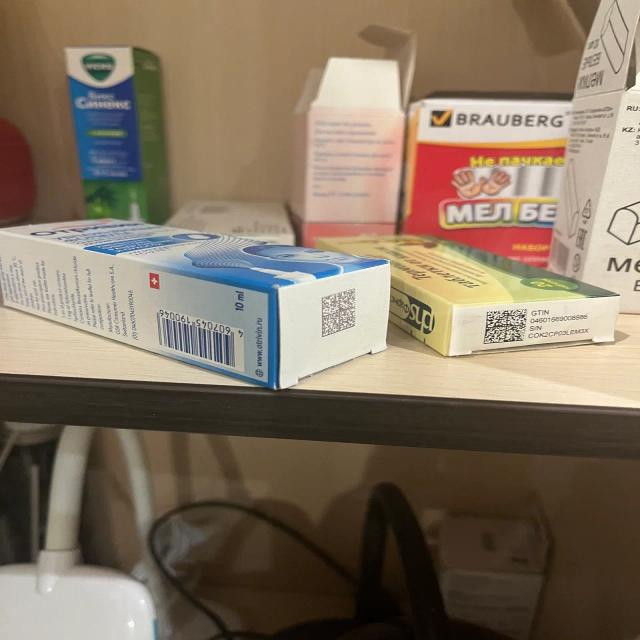datamatrix: (320, 288, 362, 339), (483, 309, 529, 345)
